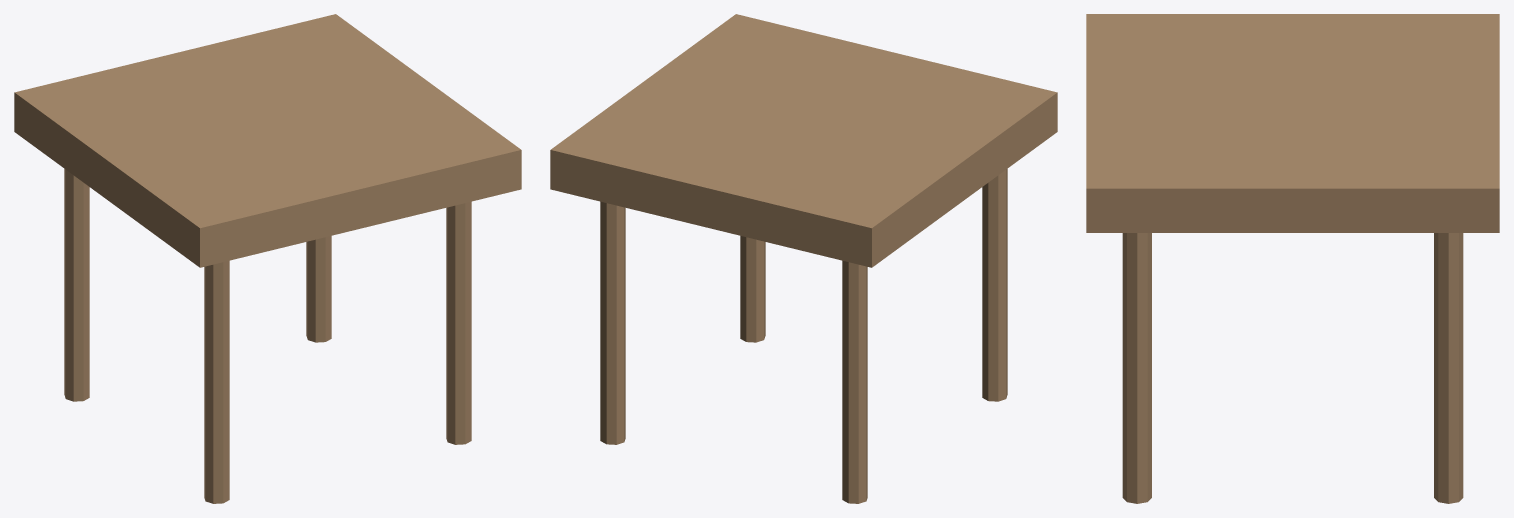
3 views of the same model, side by side, from view 1: azimuth 30°, elevation 25°; view 2: azimuth 150°, elevation 25°; view 3: azimuth 270°, elevation 25° (orthographic). The views are drawn at different scales.
Visible parts, largest first — view 1: Top, Leg.4, Leg.2, Leg.1, Leg.3; view 2: Top, Leg.3, Leg.1, Leg.2, Leg.4; view 3: Top, Leg.3, Leg.4.
Boxes of the visible parts, x1,y1,x2,y2 form: Top: [14, 14, 521, 267]; Leg.4: [446, 201, 471, 444]; Leg.2: [204, 260, 229, 503]; Leg.1: [64, 169, 89, 401]; Leg.3: [306, 236, 331, 342]; Top: [550, 14, 1057, 267]; Leg.3: [600, 201, 625, 444]; Leg.1: [842, 260, 867, 503]; Leg.2: [982, 169, 1007, 401]; Leg.4: [740, 236, 765, 342]; Top: [1086, 14, 1499, 232]; Leg.3: [1434, 233, 1463, 503]; Leg.4: [1122, 233, 1151, 503].
Size of the model in its own units: 0.85 by 0.75 by 0.85.
